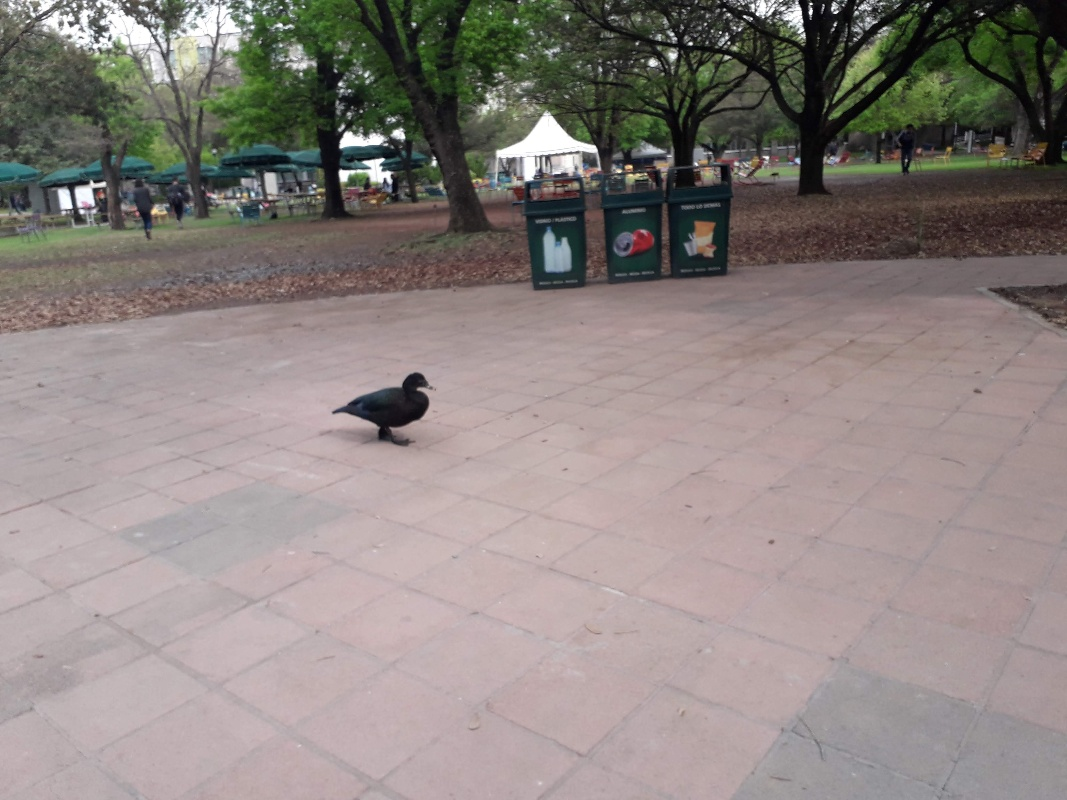pato: (341, 369, 430, 444)
